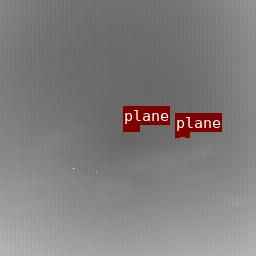plane: (123, 125, 139, 131), (175, 132, 189, 136)
